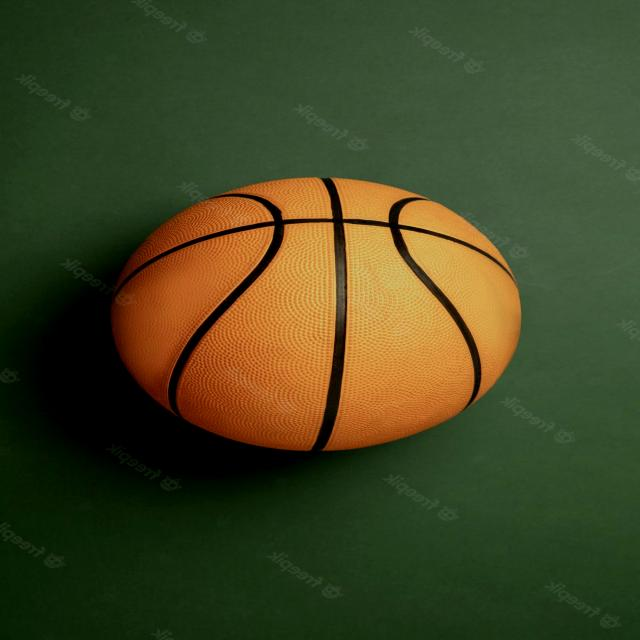ball: (102, 163, 521, 460)
